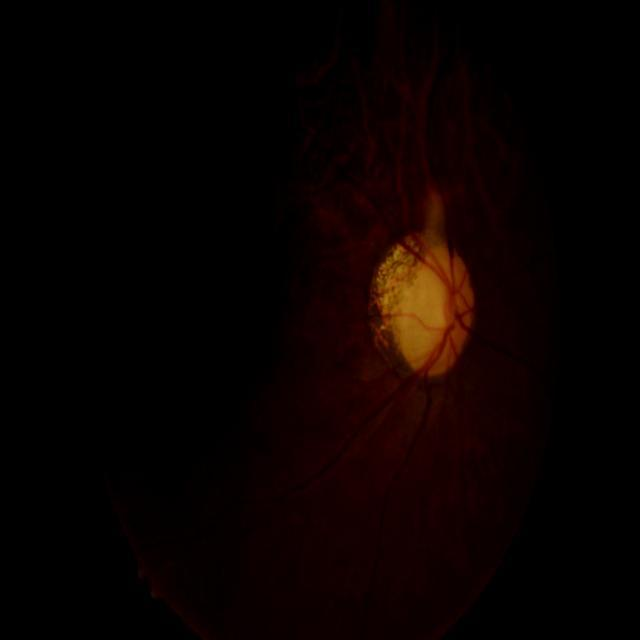cup: (414, 262, 460, 364)
disk: (400, 246, 474, 374)
